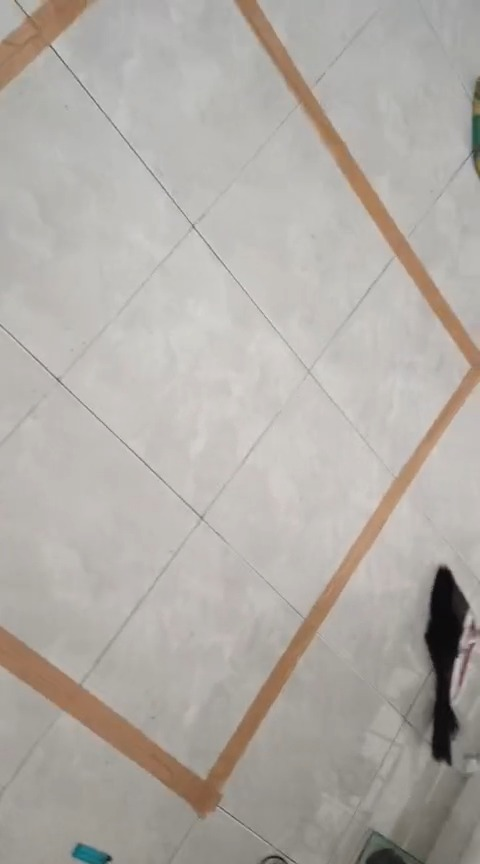floor marking: (0, 0, 479, 816), (0, 0, 95, 91)
